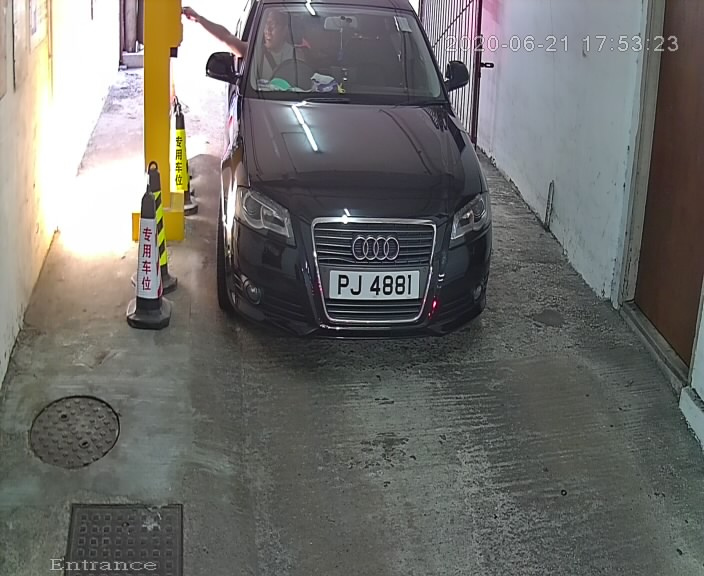privatecar: (198, 1, 503, 364)
